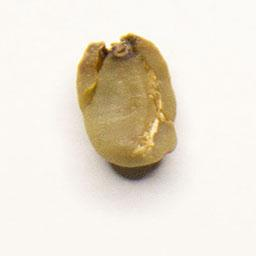defect: (72, 30, 181, 175)
